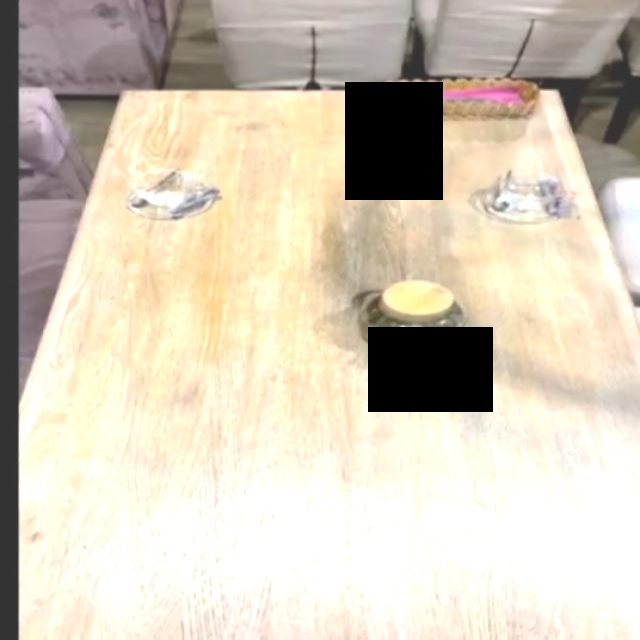tea: (374, 281, 479, 327)
